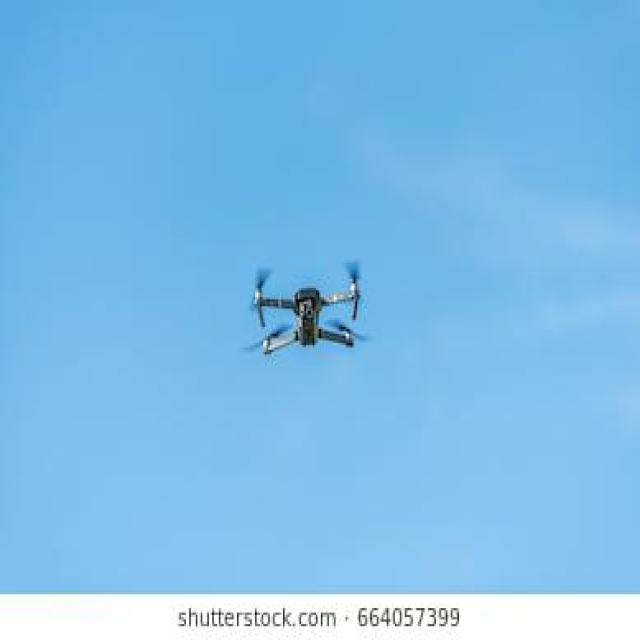drone: (0, 347, 640, 640)
